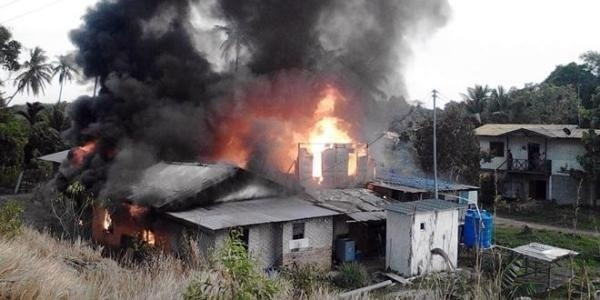fire: (297, 90, 363, 177), (72, 140, 96, 160), (140, 226, 156, 244), (101, 207, 114, 228)
